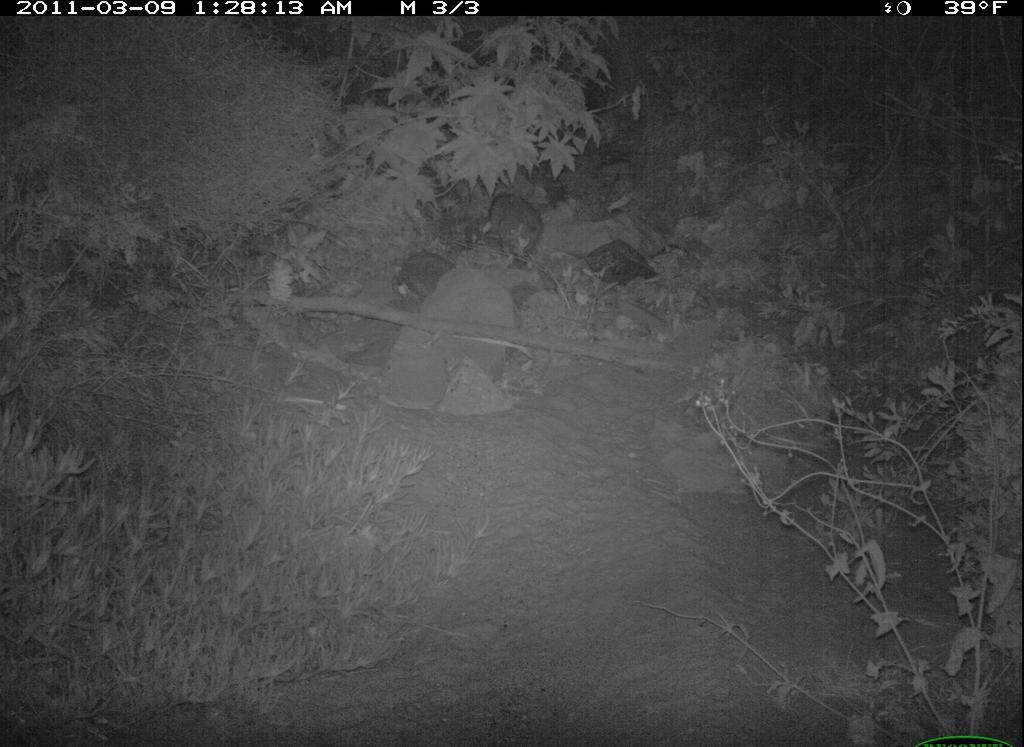raccoon: (487, 187, 547, 267)
